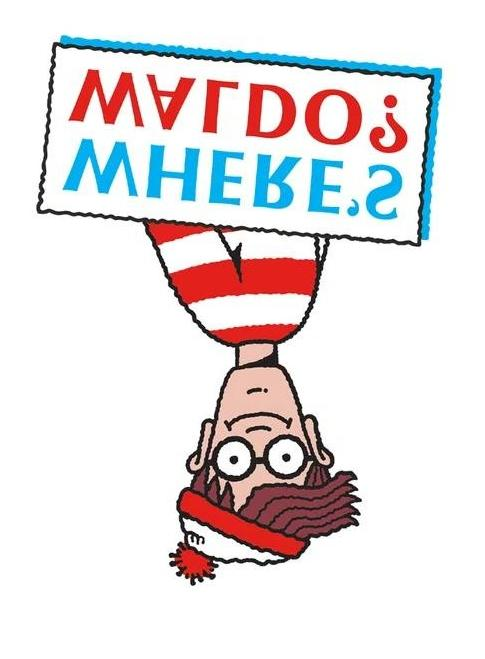waldos: (142, 219, 361, 586)
